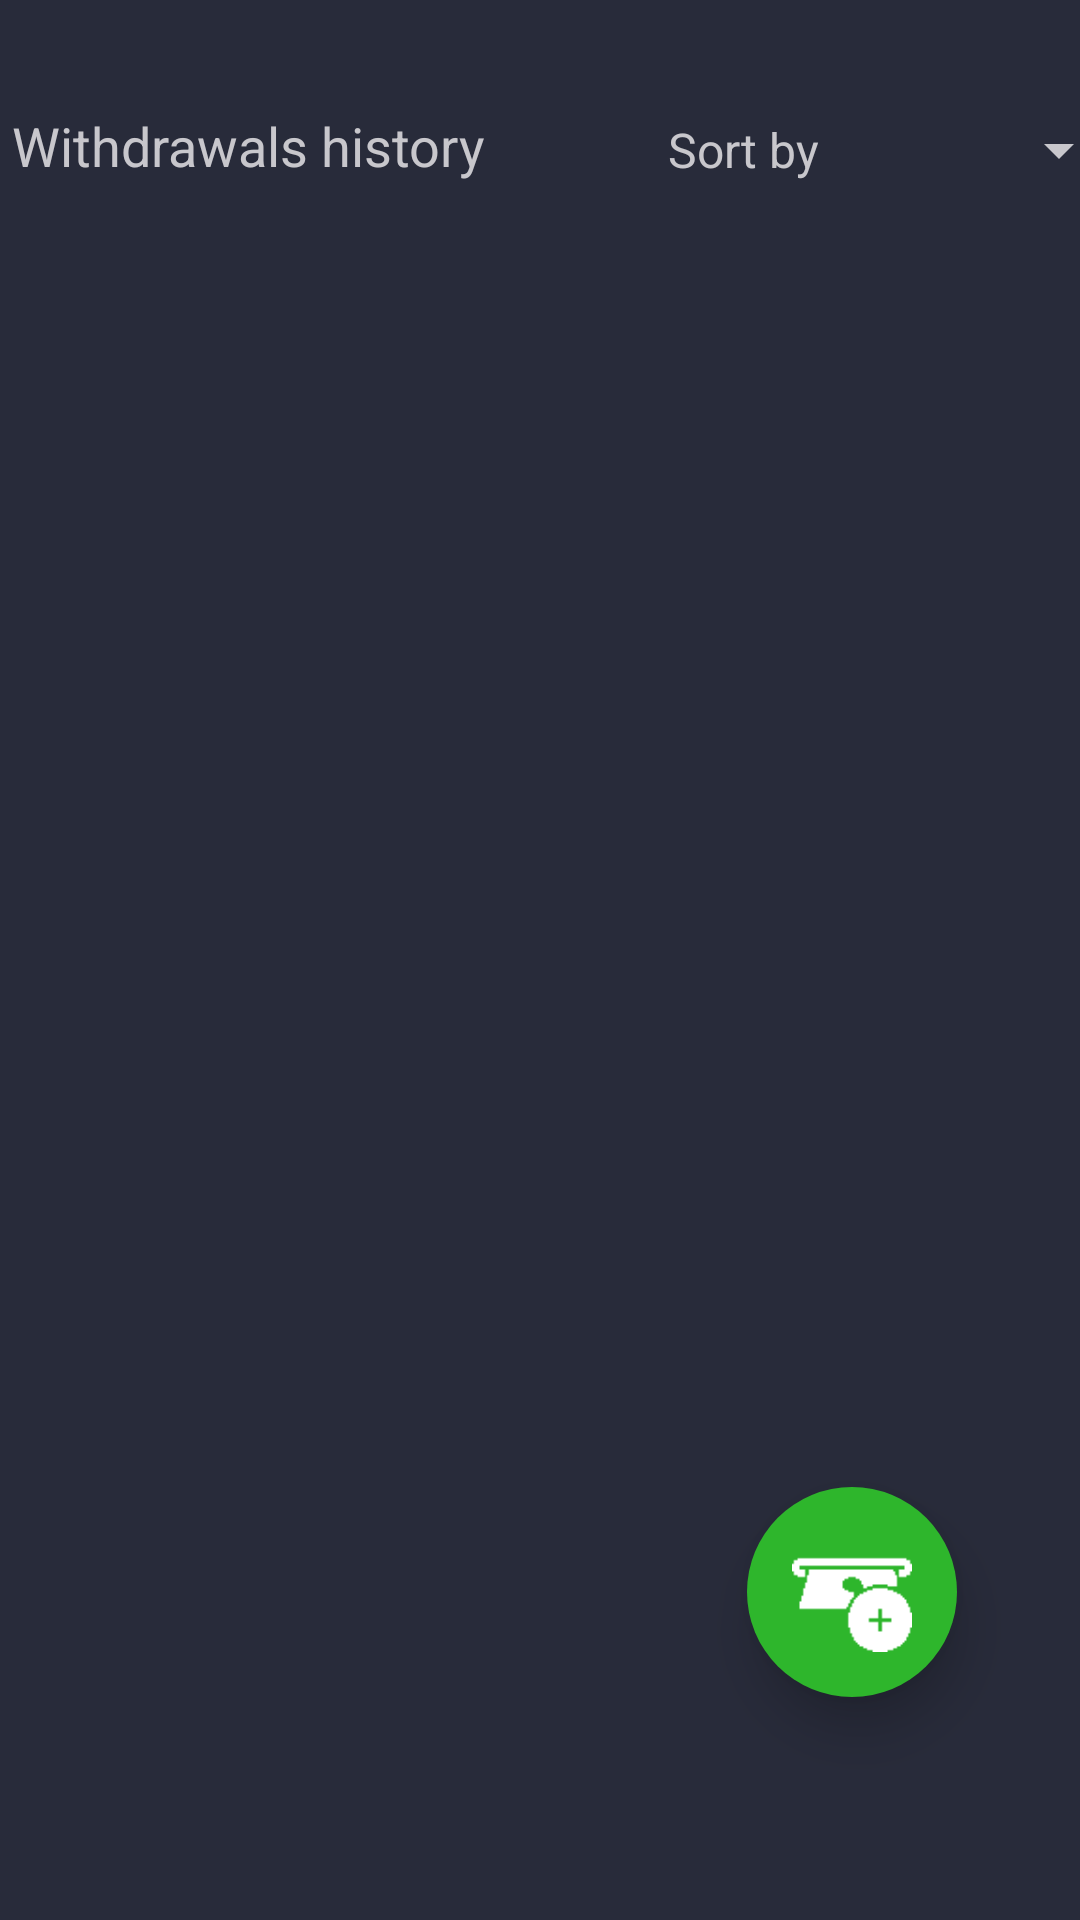

Screen size 1080x1920. Icon name, then its center in pixels as (x,y):
withdrawadd: (852,1592)
